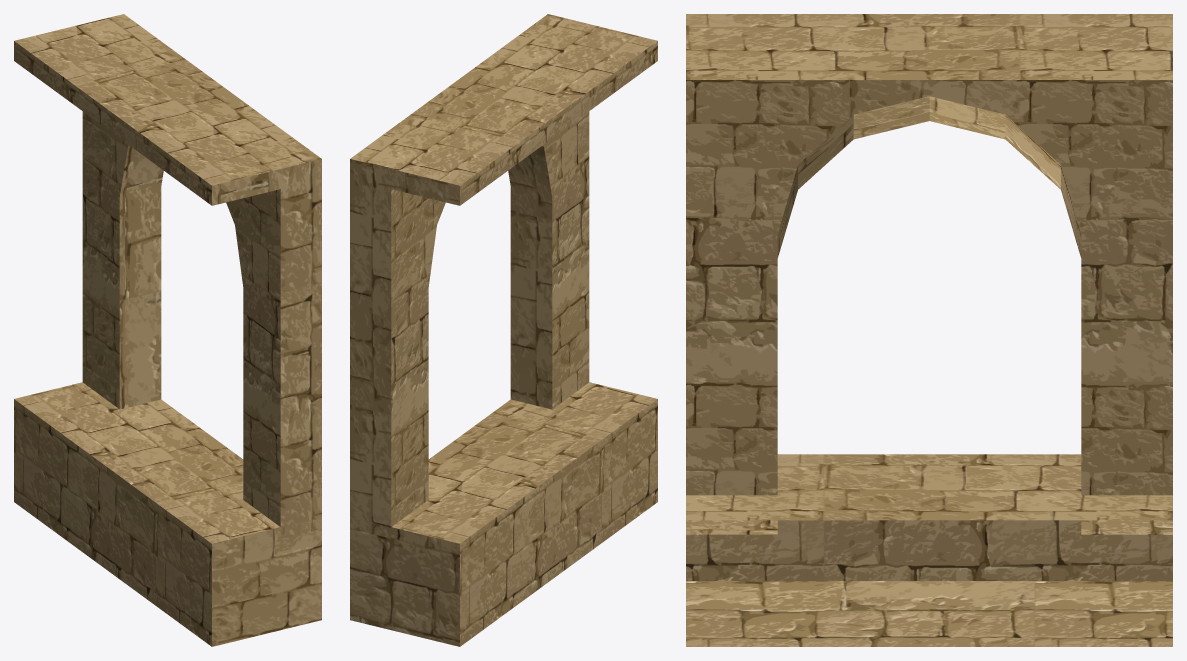
File: corridor_1.fbx
The picture shows the model from 3 angles, left to right: view 1: azimuth 30°, elevation 25°; view 2: azimuth 150°, elevation 25°; view 3: azimuth 270°, elevation 25°; orthographic projection. The views are drawn at different scales.
Visible parts, largest first — view 1: polySurface1953; view 2: polySurface1953; view 3: polySurface1953.
Boxes of the visible parts, x1=… form: polySurface1953: x1=14, y1=14, x2=321, y2=646; polySurface1953: x1=350, y1=14, x2=657, y2=646; polySurface1953: x1=686, y1=14, x2=1172, y2=646.
Bounding box in the file's own units: 37.92 × 152 × 118.
2 materials, 2 textured.
